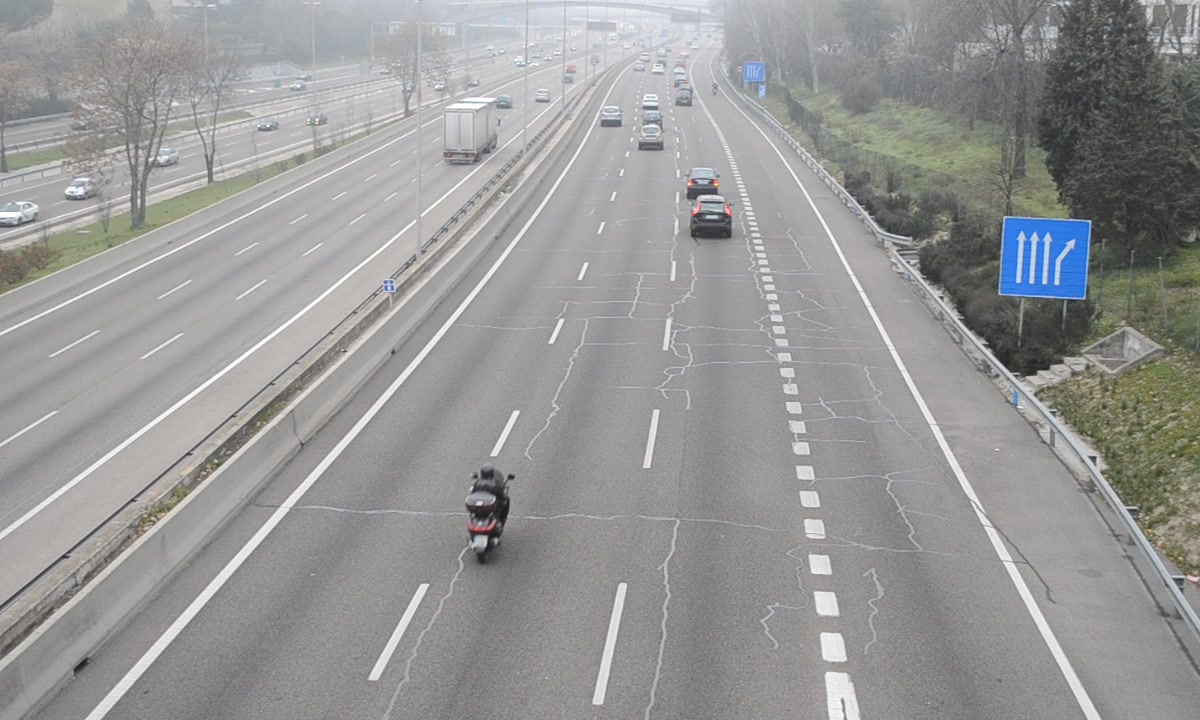car: (689, 195, 732, 236), (685, 168, 719, 198), (636, 123, 665, 150)
motorcycle: (463, 462, 515, 563)
